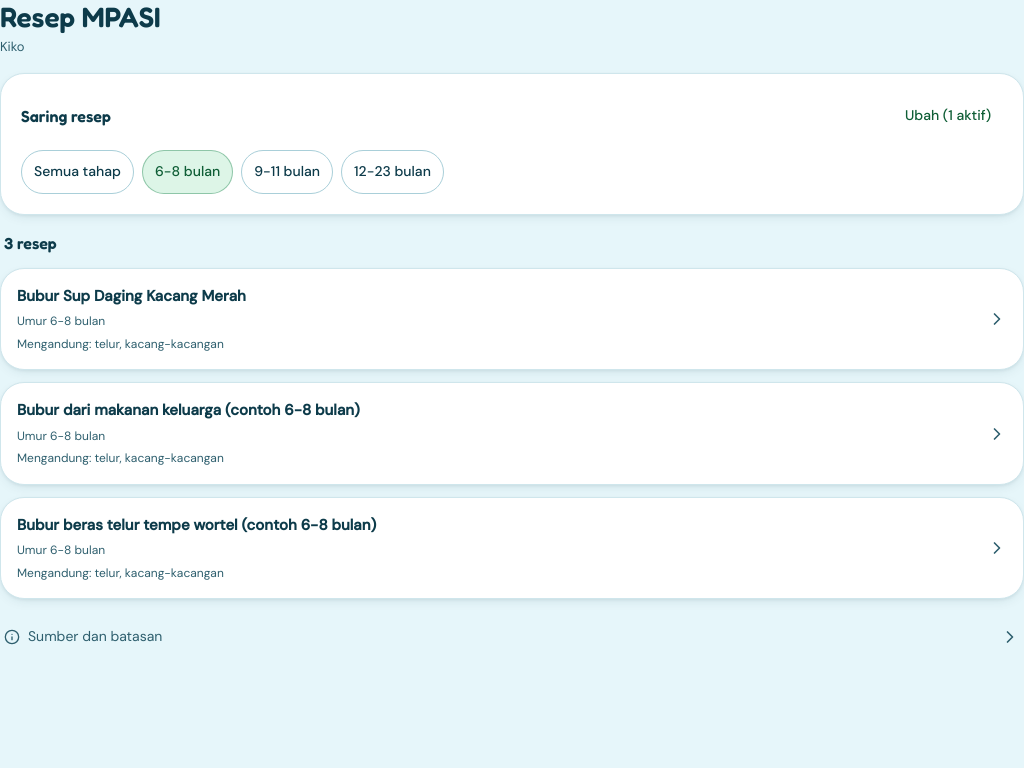
Test: ResepHalaman › detail: keselamatan wajib tampil lebih dulu, bahan bertanda kelompok, langkah, dan sumber
Click the button "Bubur Sup Daging Kacang Merah".
click(131, 296)  # box x1=0 y1=268 x2=1023 y2=370
(page scrolled)
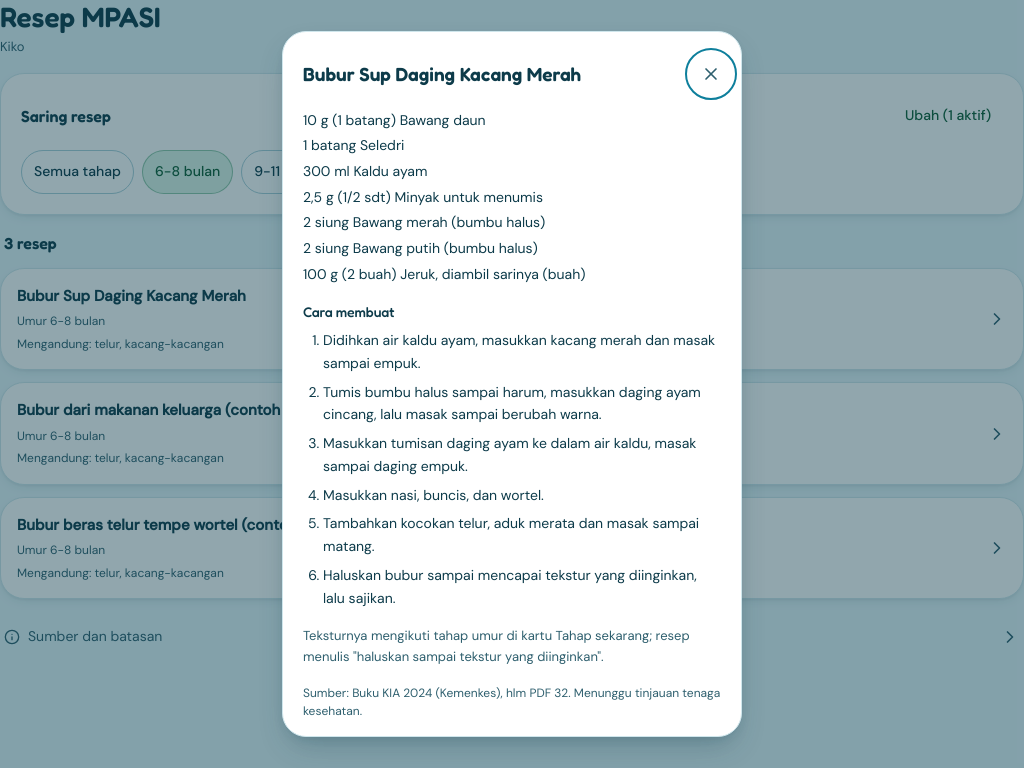
Expected: the text "Sumber: Buku KIA 2024 (Kemenkes), hlm PDF 32" is shown, x1=303 y1=684 x2=721 y2=721
Expected: the text "Menunggu tinjauan tenaga kesehatan" is shown, x1=303 y1=685 x2=720 y2=719
